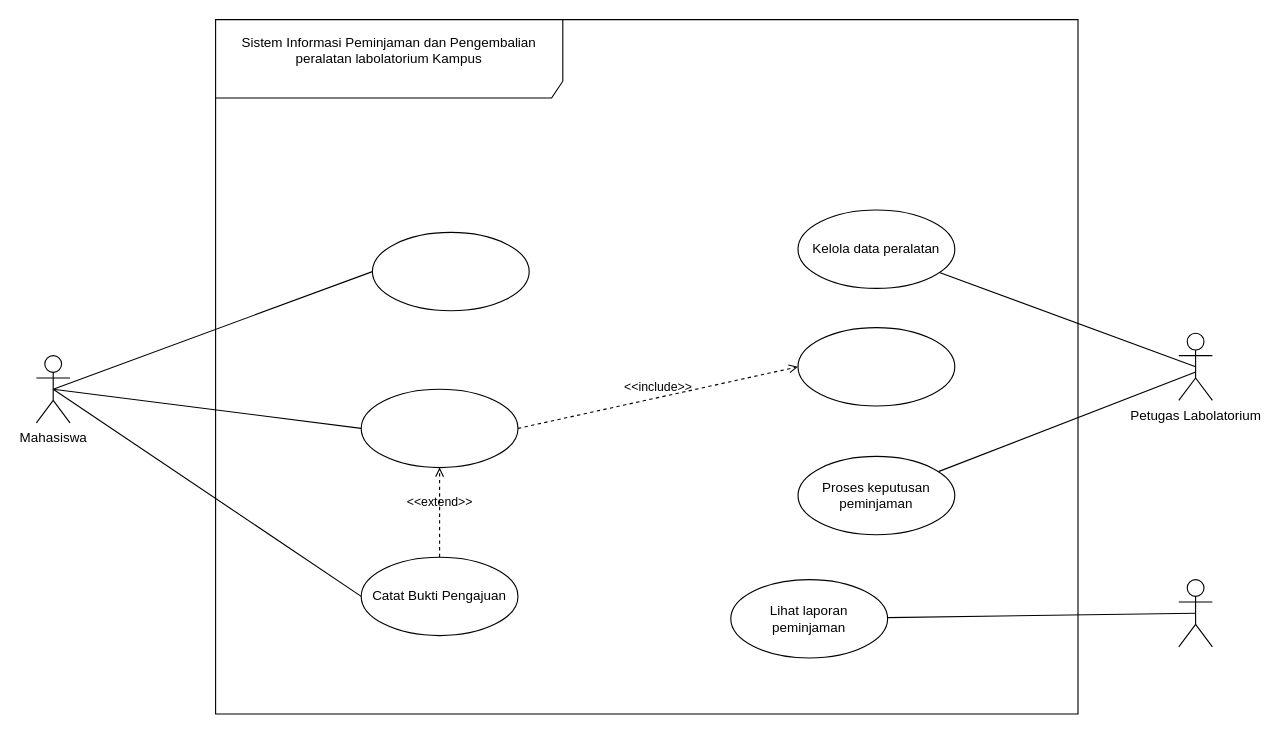
Some shapes in this 1280 by 734 pixel diagram are drawn without their labels. The shapes that lost their labels are listed below. From the top down, each one's centre as x and y in pixels, then its label:
At (450,271): "Lihat Ketersediaan peraltqan".
At (876,366): "Periksa Ketersediaan".
At (439,428): "Ajukan Peminjaman".
At (1195,612): "Petugas Laboran".
